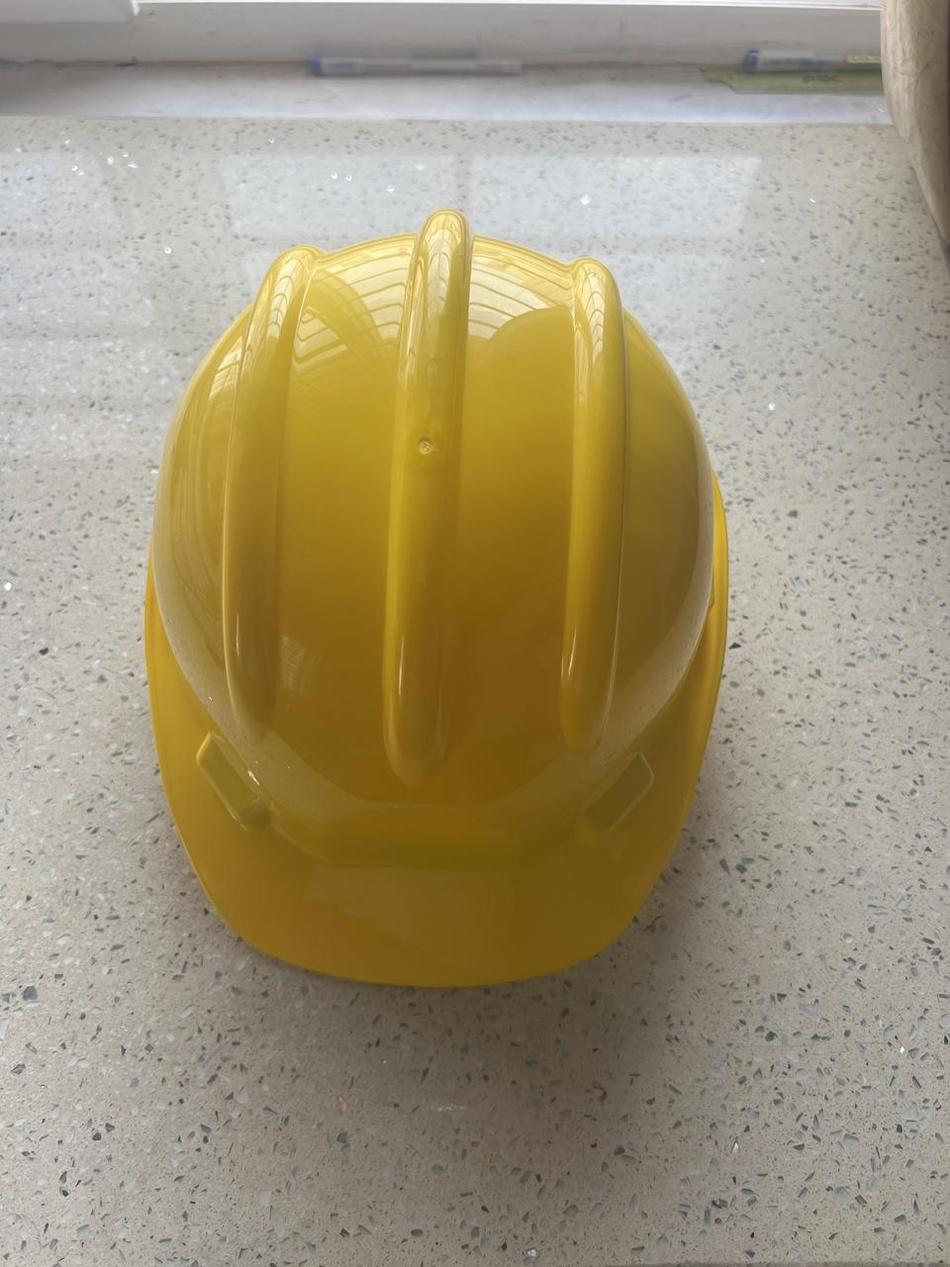Helmet: (139, 205, 728, 988)
